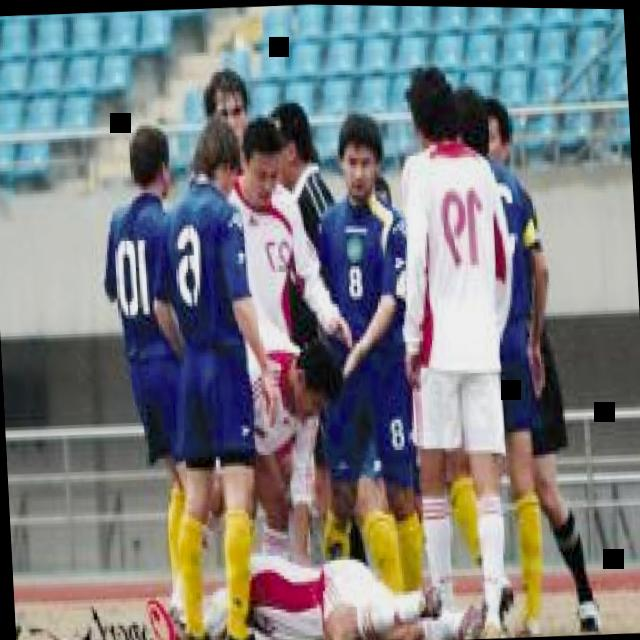Fall-Detected: (191, 498, 498, 640)
